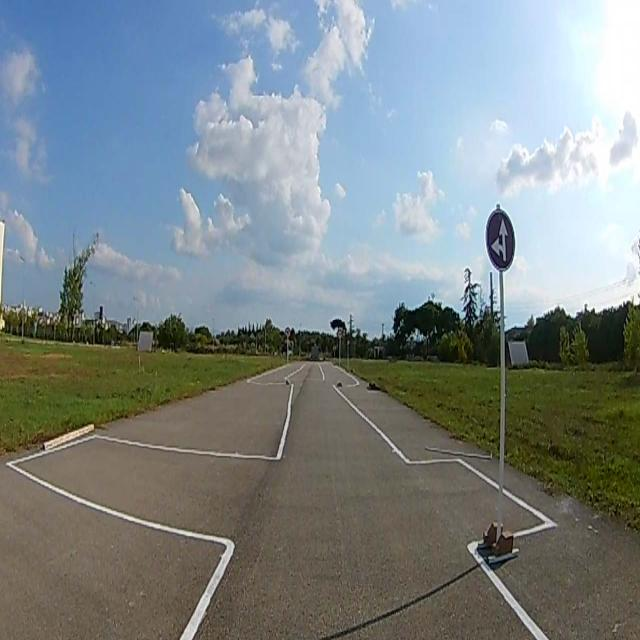ilerisol: (486, 209, 516, 270)
